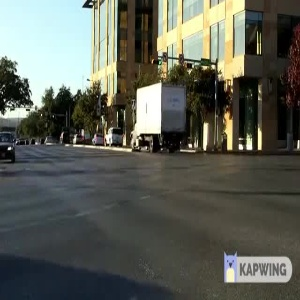semi: (129, 82, 189, 152)
suv: (102, 126, 126, 147)
